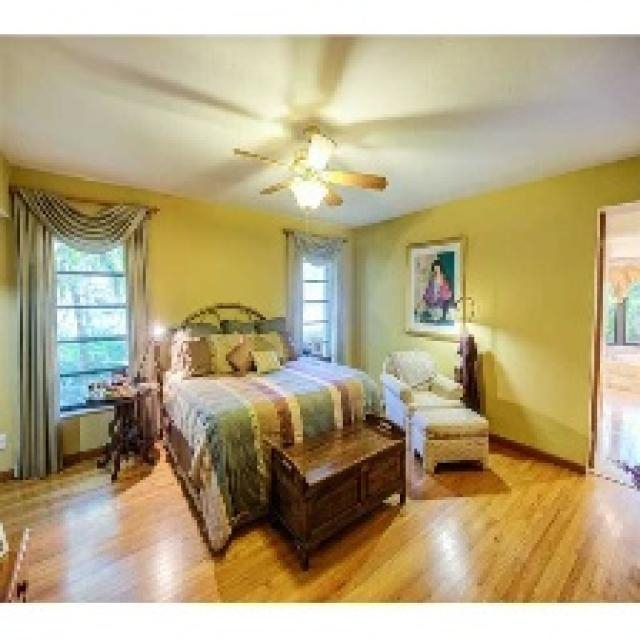Bed: (151, 300, 380, 554)
